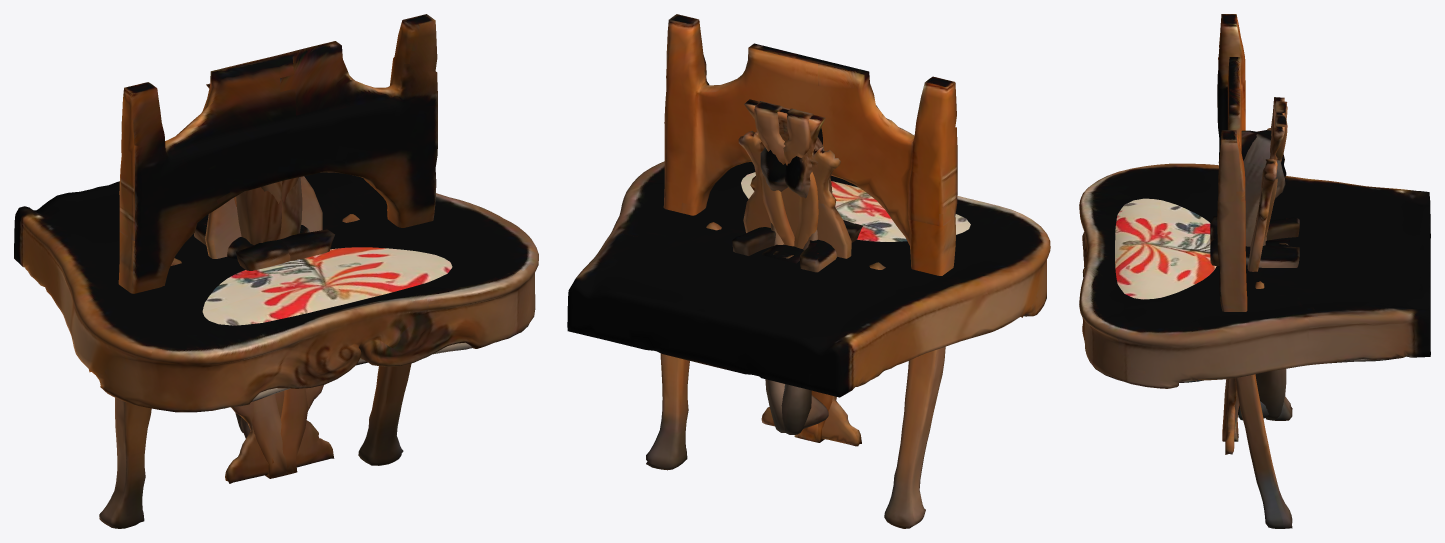
3 renders of one model, left to right at view 1: azimuth 30°, elevation 25°; view 2: azimuth 150°, elevation 25°; view 3: azimuth 270°, elevation 25°, orthographic. The views are drawn at different scales.
Parts seen in each view (by area): view 1: root.0.0, root.0.1.0, root.1, root.0.1.1, root.3, root.0.1.4, root.0.1.3, root.0.2, root.2, root.0.3; view 2: root.0.0, root.0.1.0, root.0.1.1, root.1, root.0.1.4, root.0.1.3, root.3, root.2, root.0.3, root.0.2; view 3: root.0.0, root.0.1.0, root.1, root.0.1.1, root.2, root.3, root.0.3, root.0.2, root.0.1.4, root.0.1.3.
Boxes of the visible parts, left/top/right/bottom form: root.0.0: left=14, top=172, right=538, bottom=412; root.0.1.0: left=99, top=14, right=437, bottom=528; root.1: left=202, top=247, right=500, bottom=408; root.0.1.1: left=205, top=83, right=334, bottom=483; root.3: left=236, top=177, right=298, bottom=438; root.0.1.4: left=252, top=394, right=293, bottom=478; root.0.1.3: left=234, top=196, right=308, bottom=477; root.0.2: left=194, top=218, right=334, bottom=260; root.2: left=235, top=177, right=302, bottom=432; root.0.3: left=236, top=225, right=309, bottom=270; root.0.0: left=567, top=161, right=1050, bottom=397; root.0.1.0: left=646, top=14, right=957, bottom=528; root.0.1.1: left=738, top=99, right=861, bottom=446; root.1: left=741, top=172, right=970, bottom=375; root.0.1.4: left=754, top=101, right=836, bottom=442; root.0.1.3: left=783, top=108, right=818, bottom=441; root.3: left=765, top=137, right=832, bottom=432; root.2: left=760, top=128, right=822, bottom=434; root.0.3: left=732, top=220, right=862, bottom=255; root.0.2: left=800, top=239, right=837, bottom=272; root.0.0: left=1079, top=163, right=1430, bottom=388; root.0.1.0: left=1217, top=14, right=1292, bottom=528; root.1: left=1115, top=198, right=1390, bottom=382; root.0.1.1: left=1225, top=97, right=1284, bottom=454; root.2: left=1238, top=130, right=1286, bottom=420; root.3: left=1241, top=130, right=1286, bottom=419; root.0.3: left=1210, top=216, right=1299, bottom=267; root.0.2: left=1210, top=217, right=1299, bottom=265; root.0.1.4: left=1222, top=114, right=1287, bottom=438; root.0.1.3: left=1222, top=100, right=1287, bottom=441.
Size of the model in its own units: 16609 by 17174 by 13894.
Materials: 1 (1 with a texture image).
